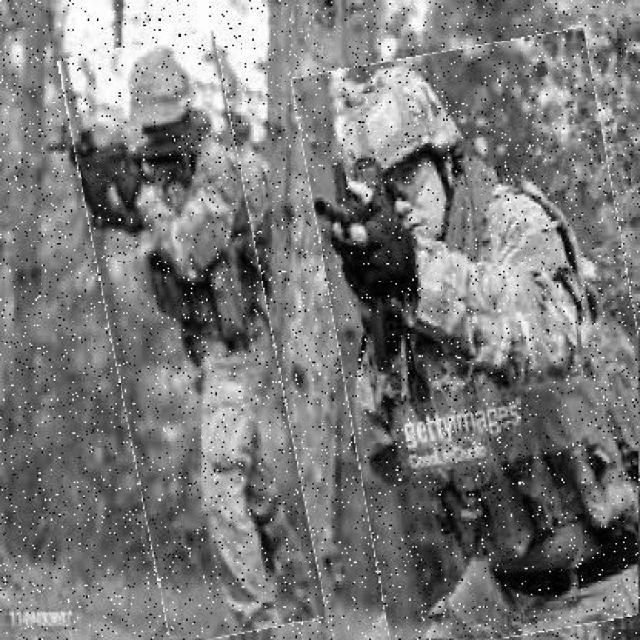Person: (317, 38, 640, 639), (84, 37, 301, 640)
